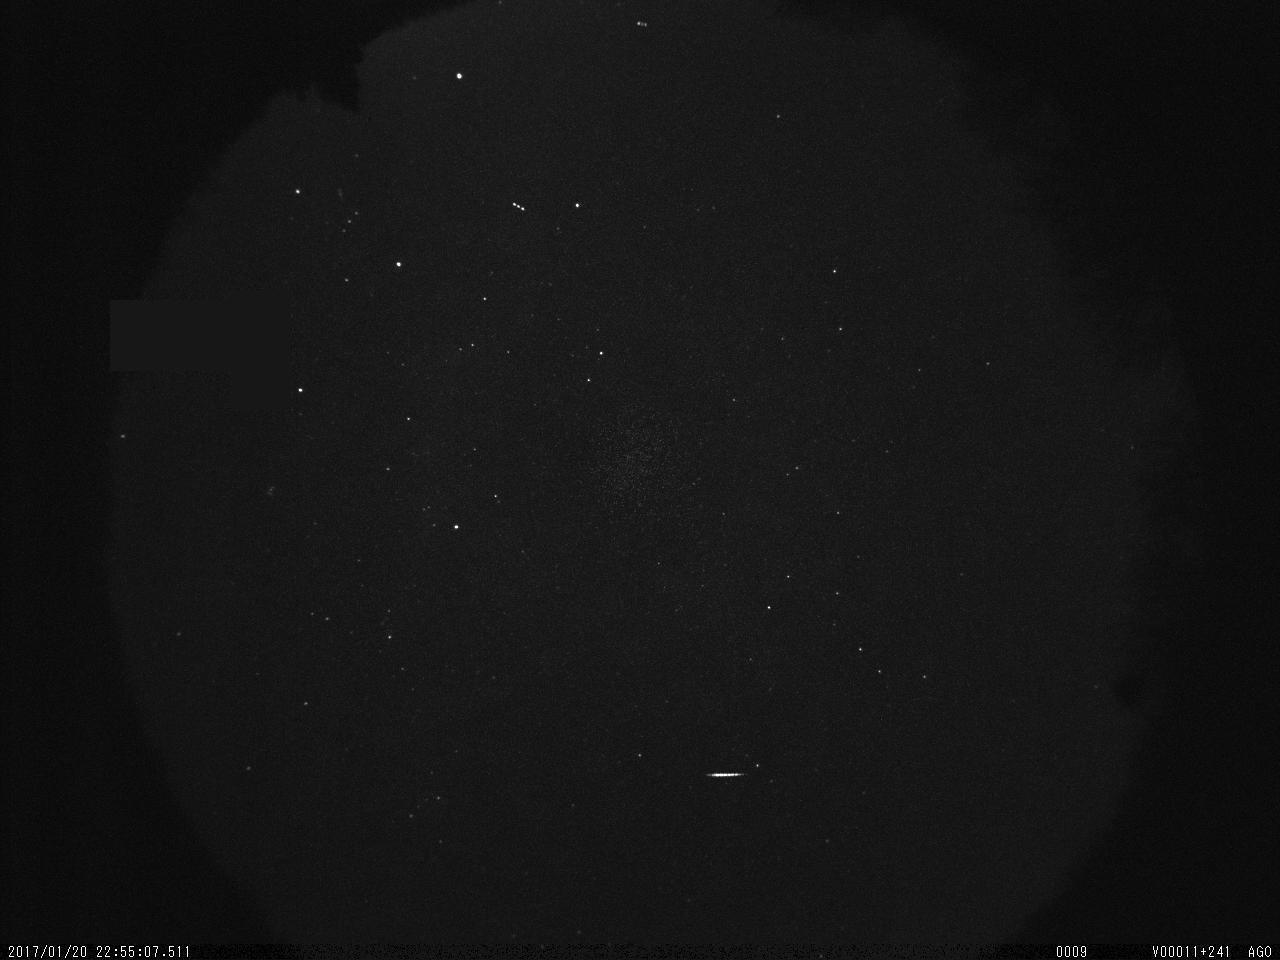meteor: (702, 759, 748, 795)
